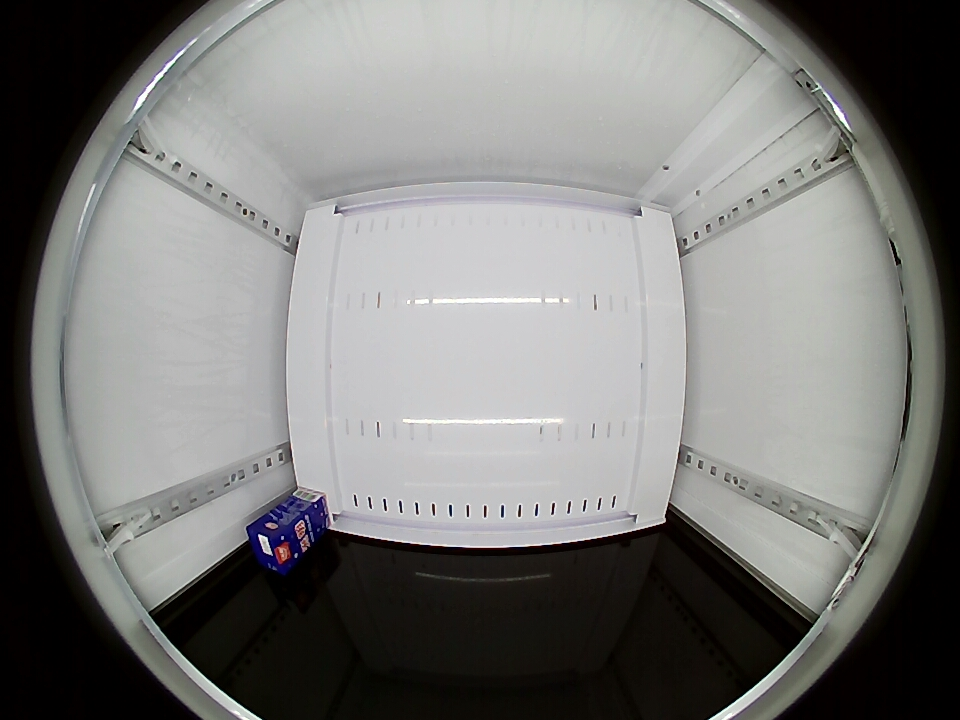bingqilinniunai: (245, 511, 306, 575)
